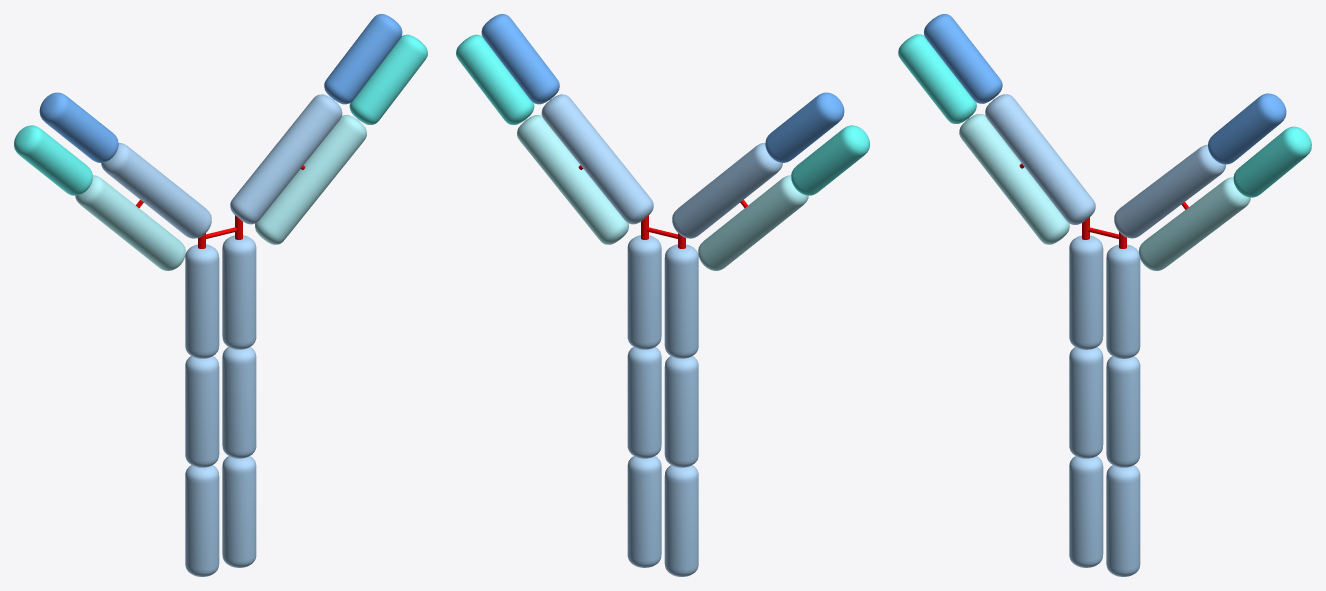
The model's file is Antibodies_IgE.fbx.
3 views of the same model, side by side, from view 1: azimuth 30°, elevation 25°; view 2: azimuth 150°, elevation 25°; view 3: azimuth 330°, elevation 25° (orthographic).
Visible parts, largest first — view 1: IgE; view 2: IgE; view 3: IgE.
Boxes of the visible parts, bbox=[...] form: IgE: bbox=[14, 14, 427, 576]; IgE: bbox=[456, 14, 869, 576]; IgE: bbox=[898, 14, 1311, 576].
Size of the model in its own units: 1.01 by 1.22 by 0.0734.
